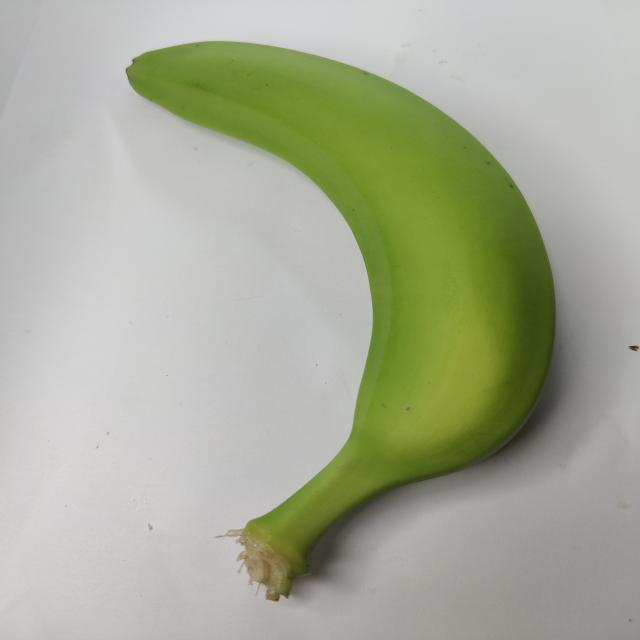raw: (79, 28, 574, 611)
